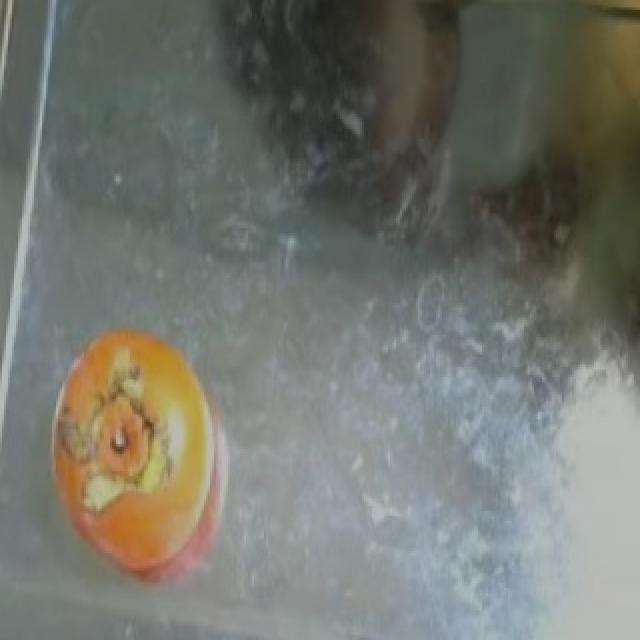Fruit: (34, 312, 218, 600)
